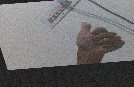hand: (75, 19, 125, 58)
